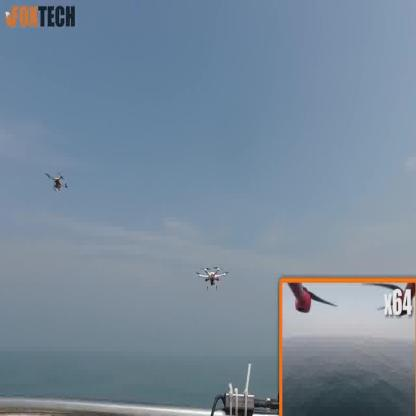drone: (196, 257, 229, 298), (42, 167, 70, 200)
